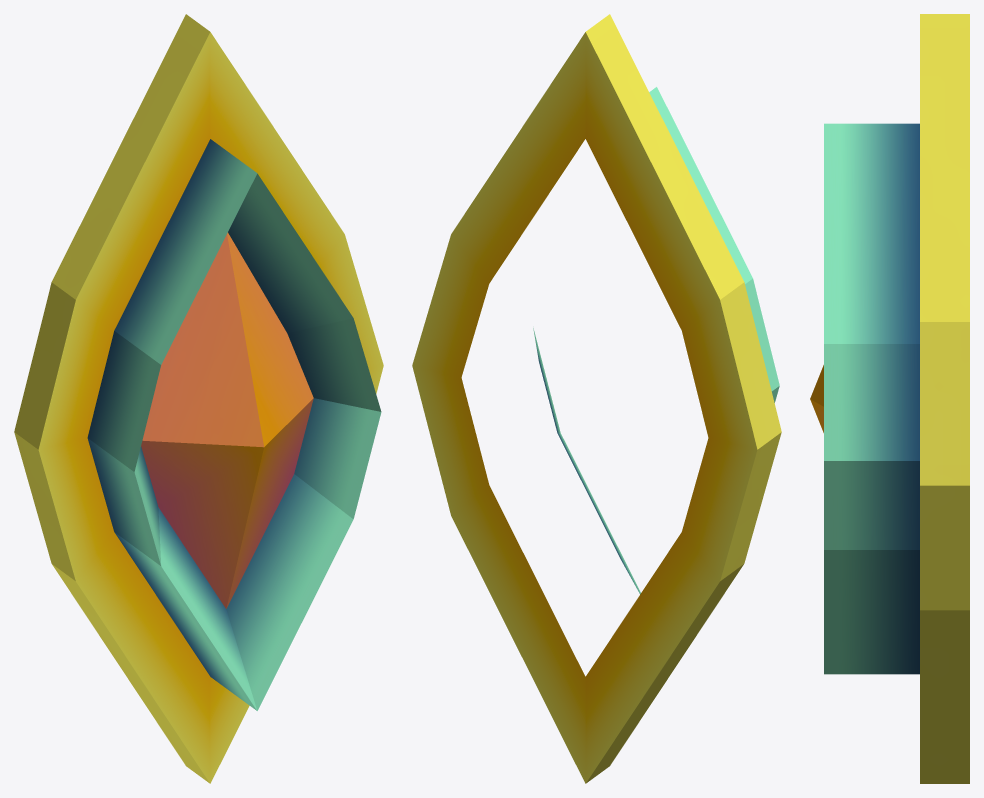
3 renders of one model, left to right at view 1: azimuth 30°, elevation 25°; view 2: azimuth 150°, elevation 25°; view 3: azimuth 270°, elevation 25°, orthographic. The views are drawn at different scales.
Parts seen in each view (by area): view 1: Cube.001; view 2: Cube.001; view 3: Cube.001.
Boxes of the visible parts, x1,y1,x2,y2 form: Cube.001: [14, 14, 383, 783]; Cube.001: [412, 14, 781, 783]; Cube.001: [810, 14, 969, 783].
Bounding box in the file's own units: 0.7273 × 1.51 × 0.2849.
1 material, 1 textured.
